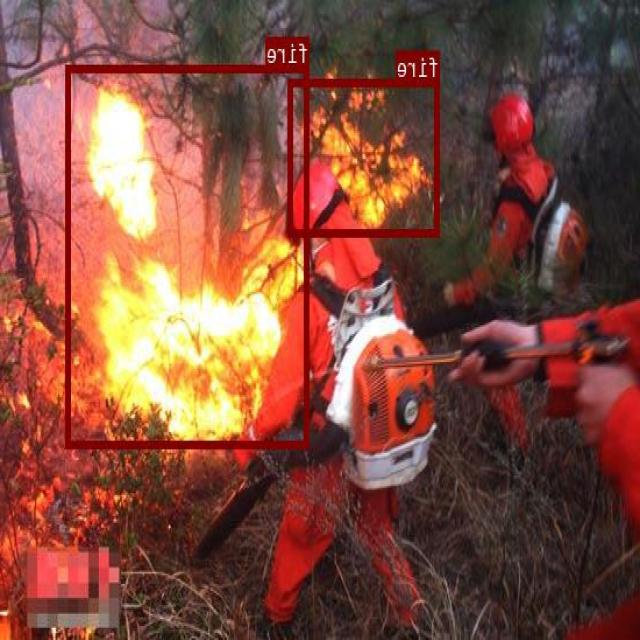fire: (67, 65, 310, 448), (290, 78, 440, 234)
